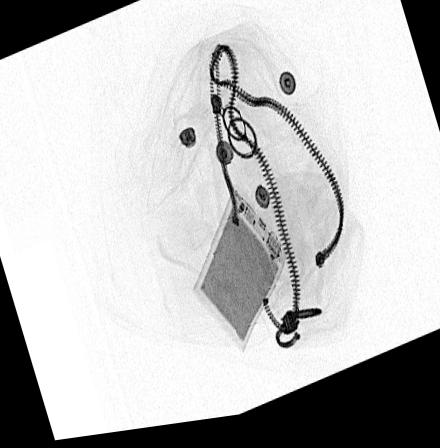Powerbank: (192, 188, 290, 357)
